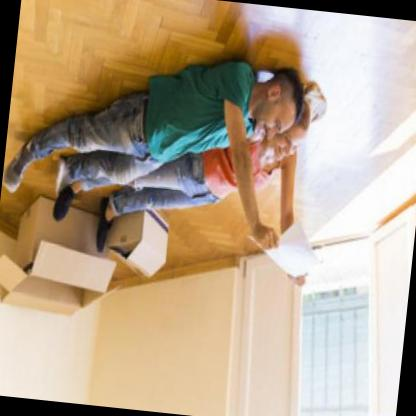box: (0, 171, 124, 348), (99, 174, 182, 294)
